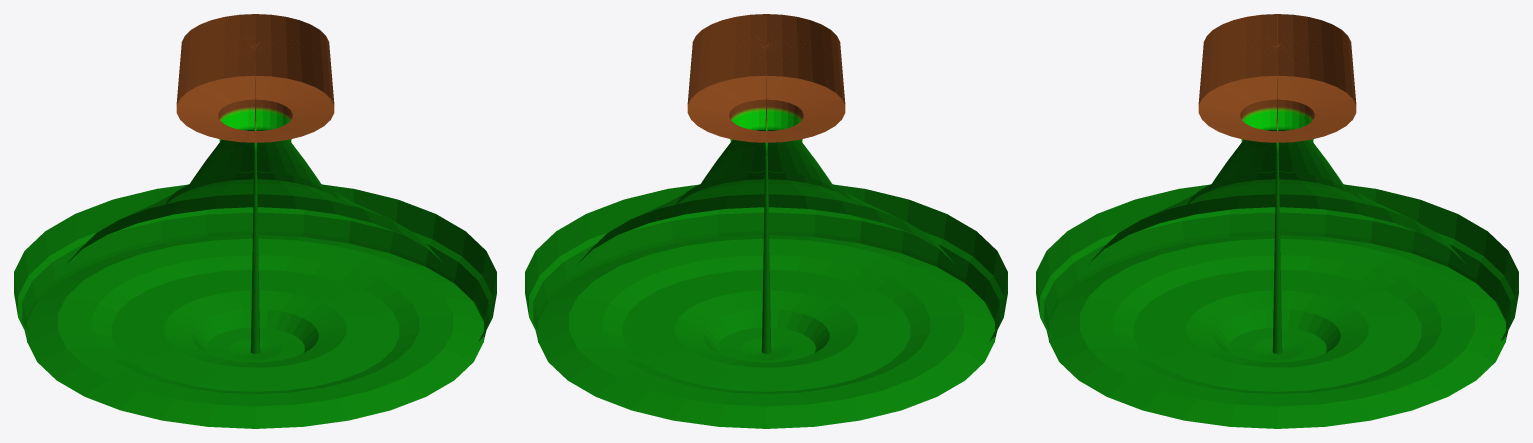
The picture shows the model from 3 angles, left to right: view 1: azimuth 30°, elevation 25°; view 2: azimuth 150°, elevation 25°; view 3: azimuth 270°, elevation 25°; orthographic projection.
Visible parts, largest first — view 1: algeomath; view 2: algeomath; view 3: algeomath.
Part boxes in pixels (x1,y1,x2,y2): algeomath: [14, 14, 496, 428]; algeomath: [525, 14, 1007, 428]; algeomath: [1036, 14, 1518, 428].
Bounding box in the file's own units: 12.6 × 8.78 × 12.53.
1 material, 1 textured.
